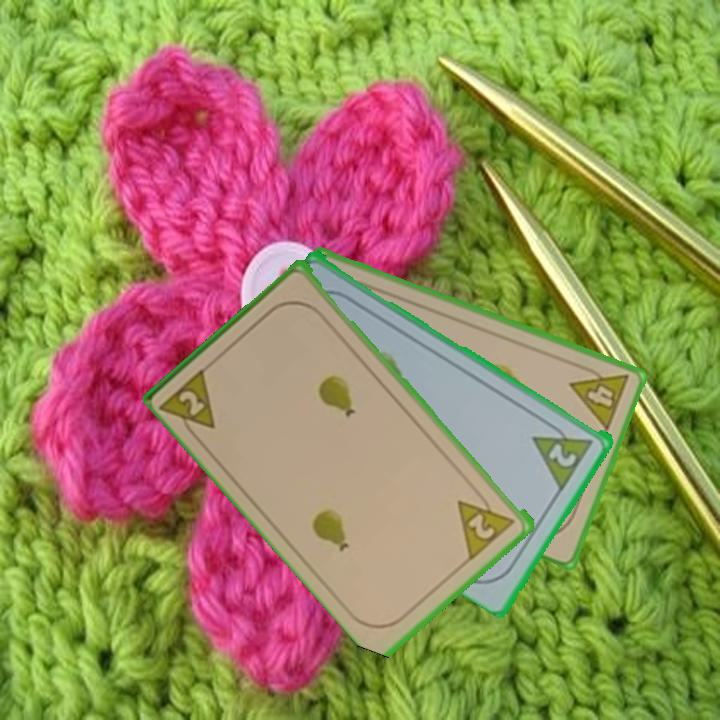2p: (529, 415, 597, 492), (454, 485, 519, 562), (158, 363, 219, 445)
4p: (566, 359, 633, 434)
